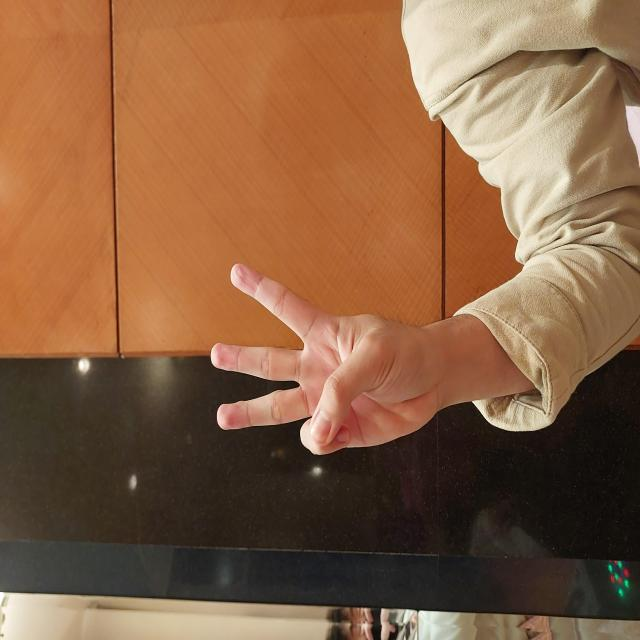W: (181, 209, 380, 442)
